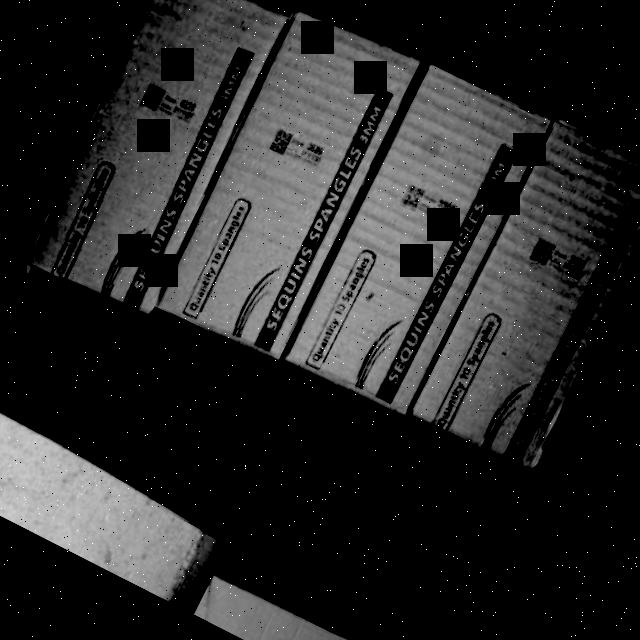box: (147, 11, 427, 368), (288, 66, 560, 416), (19, 0, 291, 311), (417, 121, 640, 474)
